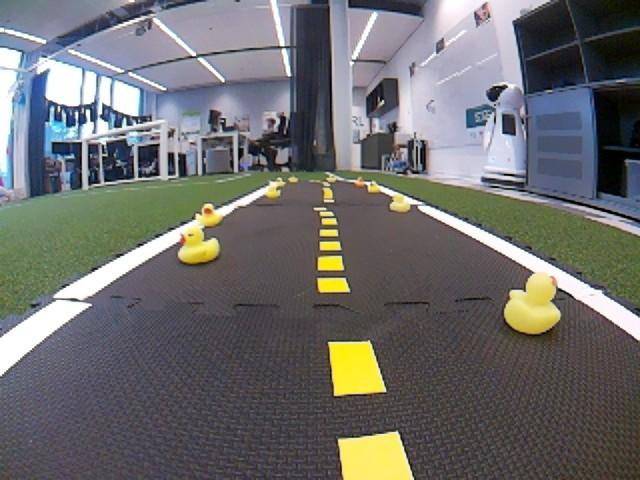Duckies: (506, 272, 563, 335), (178, 223, 220, 265), (193, 202, 224, 231), (389, 194, 413, 214), (265, 184, 283, 200), (365, 181, 378, 194)
